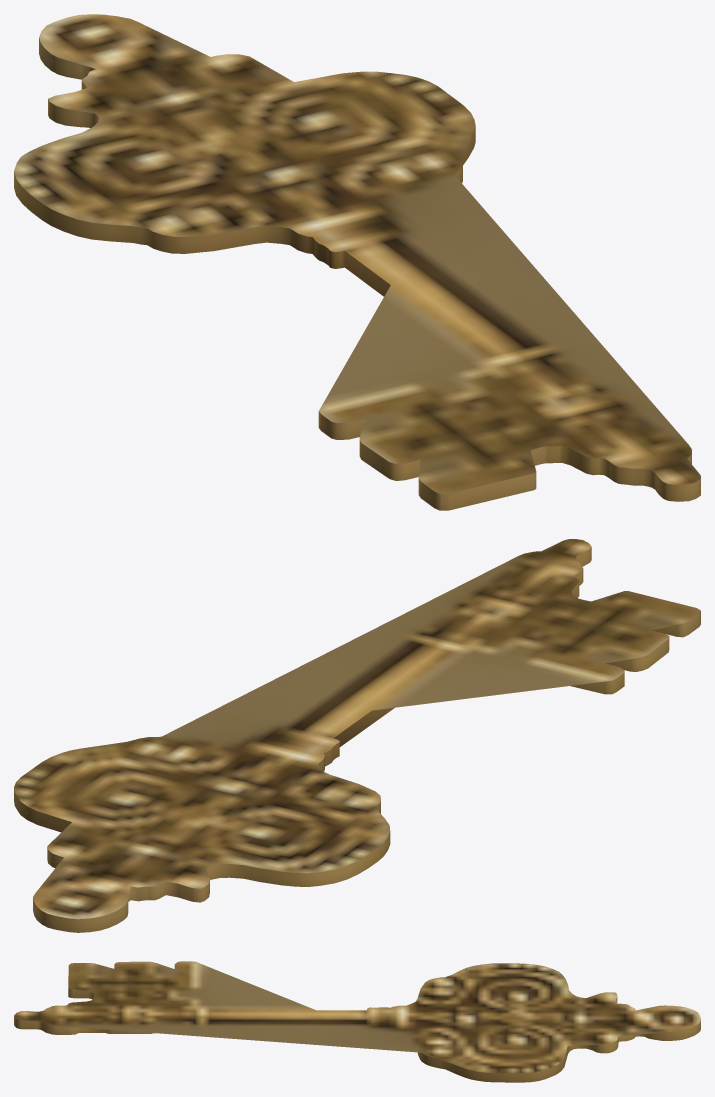
The model's file is ExportLibraryDoorKey_01.FBX.
The picture shows the model from 3 angles, top to bottom: view 1: azimuth 30°, elevation 25°; view 2: azimuth 150°, elevation 25°; view 3: azimuth 270°, elevation 25°; orthographic projection. The views are drawn at different scales.
Parts seen in each view (by area): view 1: library_key_01; view 2: library_key_01; view 3: library_key_01.
Part boxes in pixels (box(x1,y1,x2,y2)): library_key_01: box(14, 14, 700, 510); library_key_01: box(14, 539, 700, 932); library_key_01: box(14, 961, 700, 1082).
Bounding box in the file's own units: 2.64 × 6.83 × 0.1.
